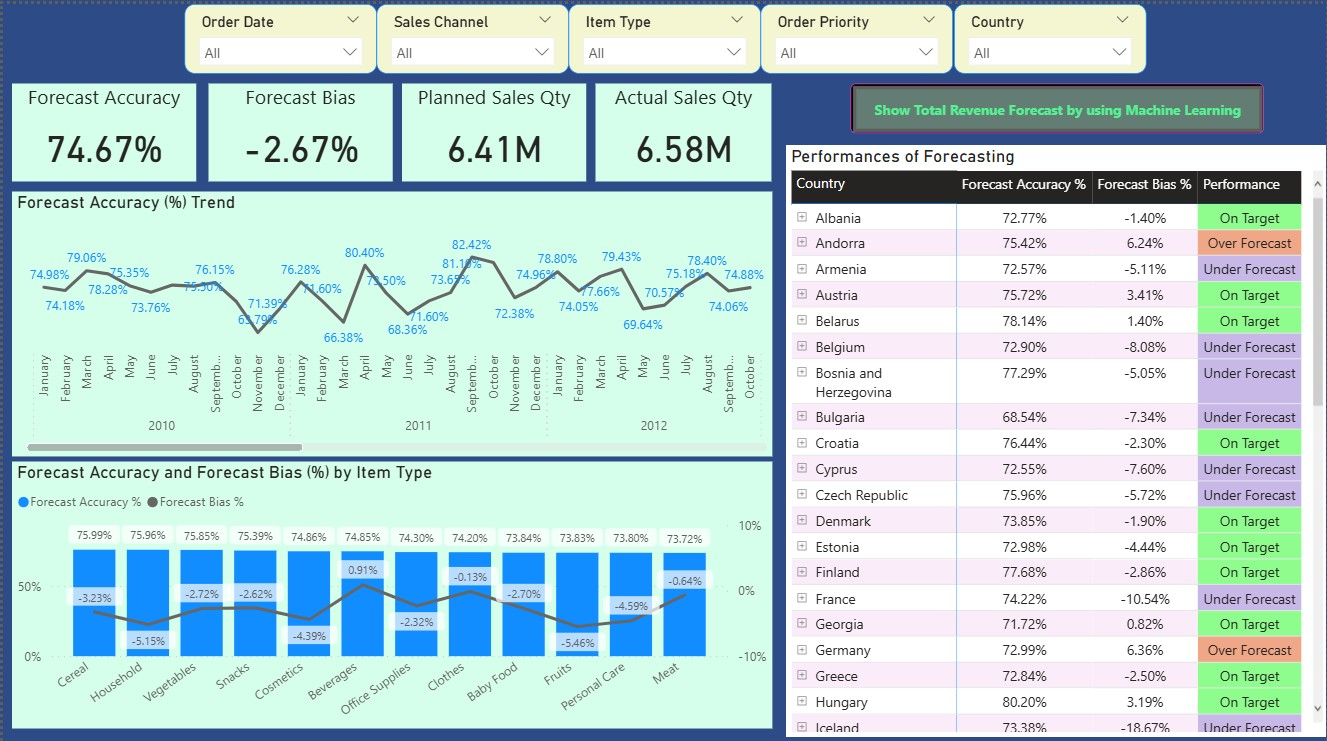

This screenshot's page, from the dashboard's own definition file:
{"tool":"powerbi","page":{"name":"Sales Demand Planning","canvas":[1280,720],"ordinal":1},"visuals":[{"type":"lineChart","title":"Forecast Accuracy (%) Trend","fields":{"Category":["DateTable.Year","DateTable.Month Name"],"Y":["Measure Table.Forecast Accuracy %"]},"box":[8.8,180.9,734.3,255.8],"z":0},{"type":"slicer","fields":{"Values":["Europe Sales Records.Country"]},"box":[918.2,0,185.8,67.1],"z":1000},{"type":"slicer","fields":{"Values":["Europe Sales Records.Order Priority"]},"box":[732.4,0,185.8,67.1],"z":2000},{"type":"slicer","fields":{"Values":["DateTable.Date.Variation.Date Hierarchy.Year","DateTable.Date.Variation.Date Hierarchy.Month"]},"box":[175.1,0,185.8,67.1],"z":3000},{"type":"card","title":"Forecast Accuracy","fields":{"Values":["Measure Table.Forecast Accuracy %"]},"box":[8.8,76.8,178,94.3],"z":4000},{"type":"card","title":"Forecast Bias","fields":{"Values":["Measure Table.Forecast Bias %"]},"box":[198.4,76.8,178,94.3],"z":5000},{"type":"card","title":"Actual Sales Qty","fields":{"Values":["Measure Table.Total Actual"]},"box":[572.9,76.8,170.2,94.3],"z":6000},{"type":"card","title":"Planned Sales Qty","fields":{"Values":["Measure Table.Total Forecast"]},"box":[386.1,76.8,178,94.3],"z":7000},{"type":"slicer","fields":{"Values":["Europe Sales Records.Item Type"]},"box":[546.6,0,185.8,67.1],"z":8000},{"type":"slicer","fields":{"Values":["Europe Sales Records.Sales Channel"]},"box":[360.9,0,185.8,67.1],"z":9000},{"type":"lineClusteredColumnComboChart","title":"Forecast Accuracy and Forecast Bias (%) by Item Type","fields":{"Category":["Europe Sales Records.Item Type"],"Y":["Measure Table.Forecast Accuracy %"],"Y2":["Measure Table.Forecast Bias %"]},"box":[8.8,442.6,734.3,257.8],"z":10000},{"type":"pivotTable","title":"Performances of Forecasting","fields":{"Rows":["Europe Sales Records.Country","Europe Sales Records.Item Type"],"Values":["Measure Table.Forecast Accuracy %","Measure Table.Forecast Bias %","Measure Table.Performance"]},"box":[756.4,135.8,523.6,571.6],"z":11000},{"type":"actionButton","title":"ML Forecast","box":[819.1,76.4,399.3,47.9],"z":13000}]}

Visuals, with their boxes in screenshot pixels (x1, y1, x2, y2), scaled from the page's 1280x720 canvas onto the 1327x741 screenshot:
"Forecast Accuracy (%) Trend" lineChart: region(9, 186, 770, 449)
slicer - Europe Sales Records.Country: region(952, 0, 1145, 69)
slicer - Europe Sales Records.Order Priority: region(759, 0, 952, 69)
slicer - DateTable.Date.Variation.Date Hierarchy.Year x DateTable.Date.Variation.Date Hierarchy.Month: region(182, 0, 374, 69)
"Forecast Accuracy" card: region(9, 79, 194, 176)
"Forecast Bias" card: region(206, 79, 390, 176)
"Actual Sales Qty" card: region(594, 79, 770, 176)
"Planned Sales Qty" card: region(400, 79, 585, 176)
slicer - Europe Sales Records.Item Type: region(567, 0, 759, 69)
slicer - Europe Sales Records.Sales Channel: region(374, 0, 567, 69)
"Forecast Accuracy and Forecast Bias (%) by Item Type" lineClusteredColumnComboChart: region(9, 456, 770, 721)
"Performances of Forecasting" pivotTable: region(784, 140, 1326, 728)
"ML Forecast" actionButton: region(849, 79, 1263, 128)
